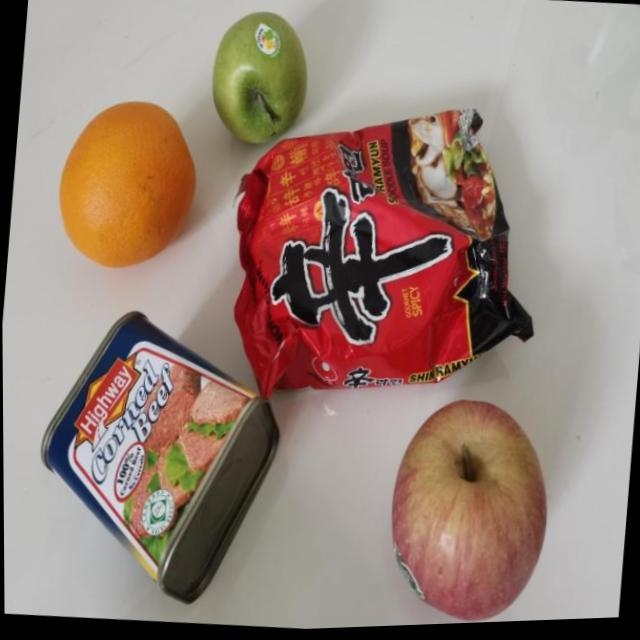Apple: (376, 391, 555, 629), (203, 4, 315, 152)
Orange: (49, 97, 204, 278)
